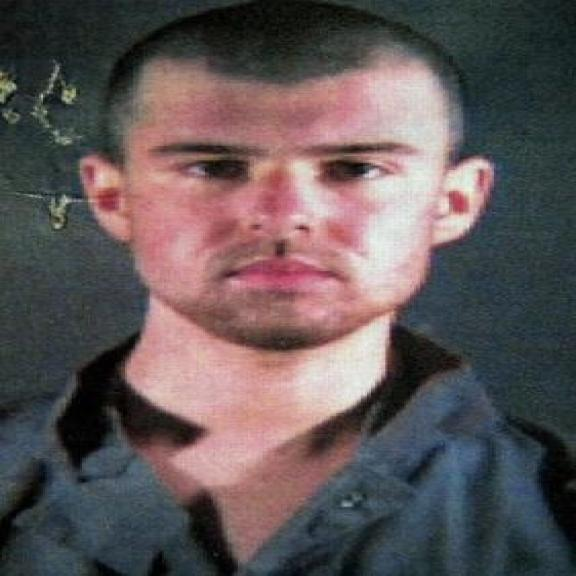face: (75, 75, 505, 347)
